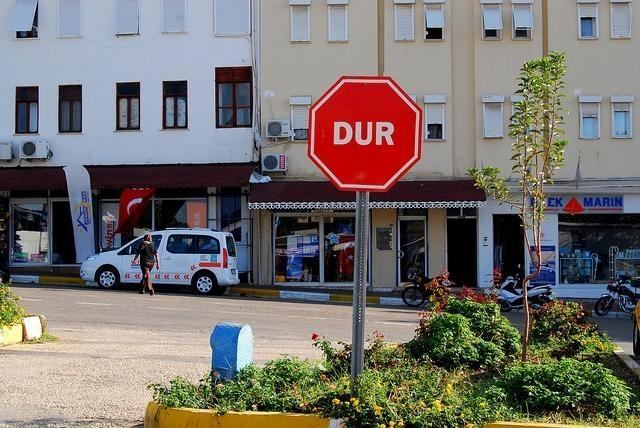car: (80, 225, 237, 292)
motorcycle: (398, 263, 556, 313), (595, 280, 639, 316)
